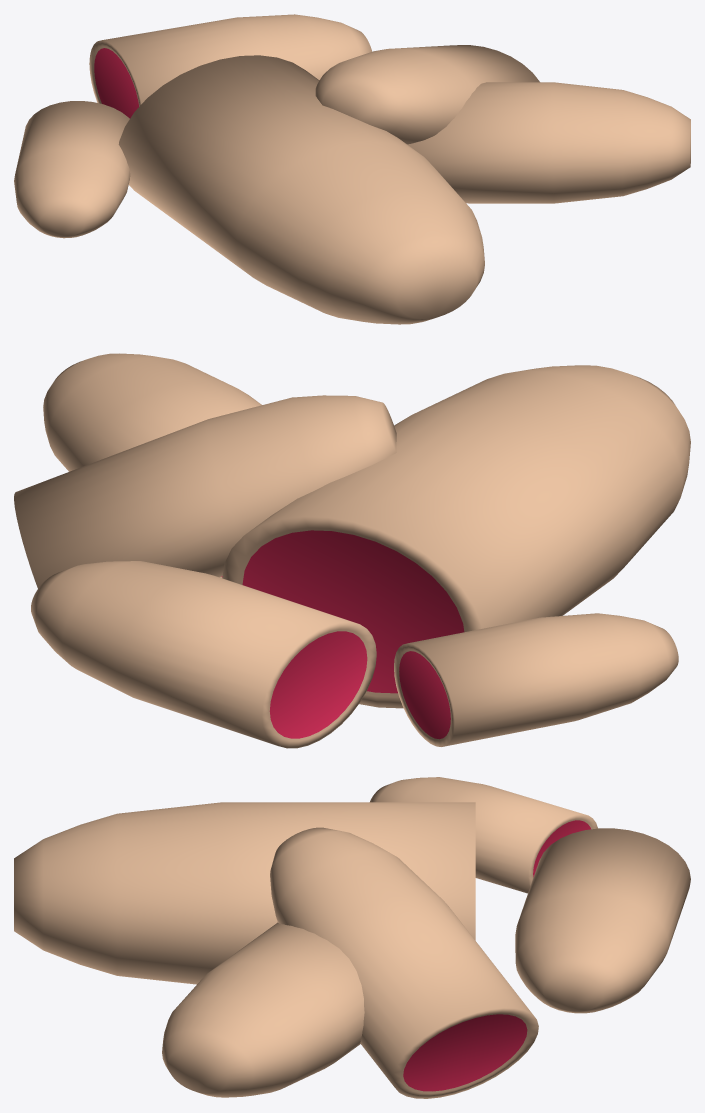
File: Toes.fbx
3 renders of one model, top to bottom at view 1: azimuth 30°, elevation 25°; view 2: azimuth 150°, elevation 25°; view 3: azimuth 270°, elevation 25°, orthographic. The views are drawn at different scales.
Parts seen in each view (by area): view 1: Toes; view 2: Toes; view 3: Toes.
Boxes of the visible parts, box(x1,y1,x2,y2) form: Toes: box(14, 14, 690, 324); Toes: box(14, 353, 690, 748); Toes: box(14, 777, 690, 1098).
Bounding box in the file's own units: 558 × 153 × 535.
